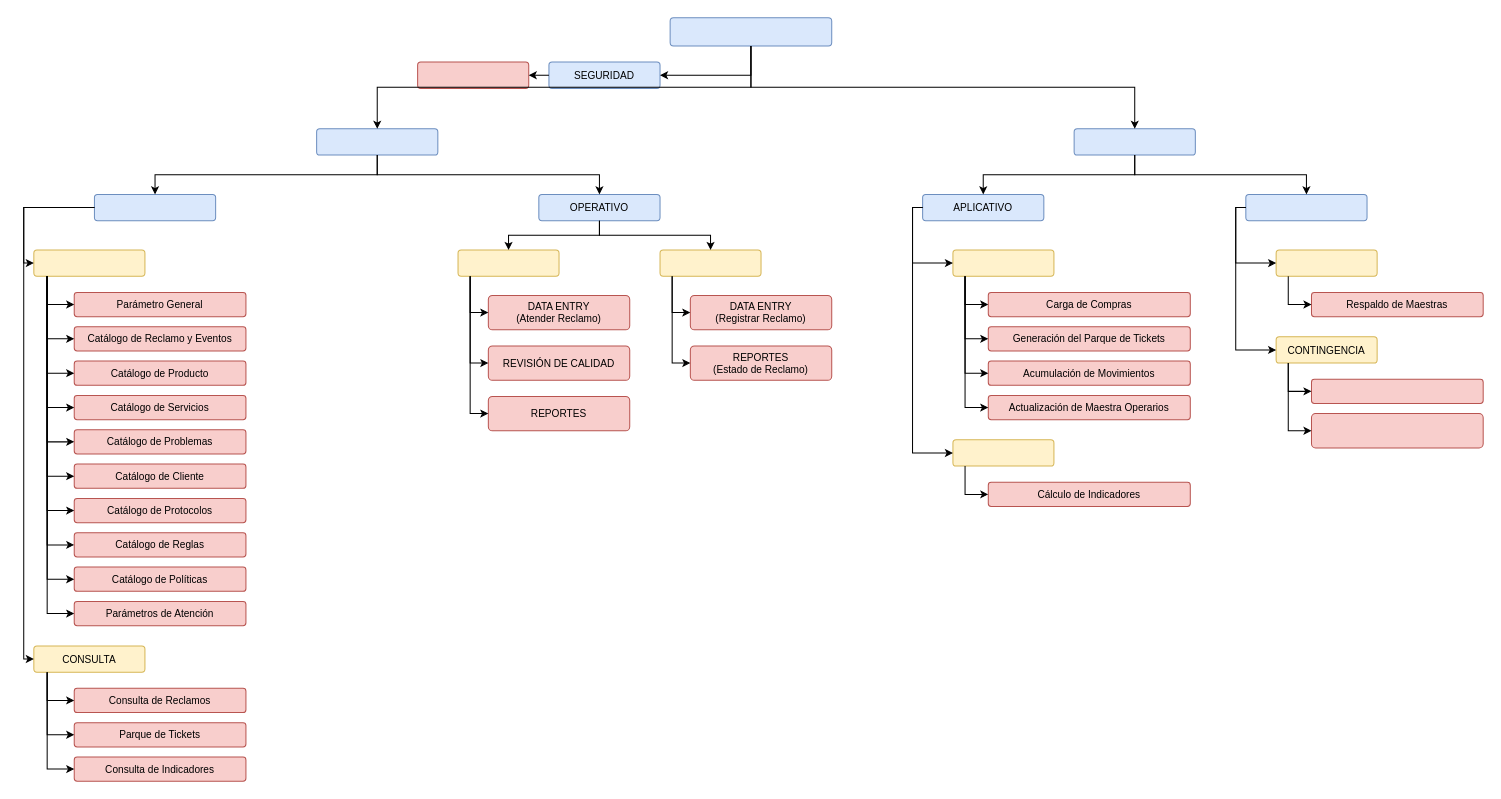
Some shapes in this 1501 by 799 pixel diagram are drawn without their labels. Here are the shapes that lost their labels. From the top down, the centre of each, then its label:
At point 750,31: "SISTEMA DE RECLAMOS".
At point 473,74: "Perfiles y Accesos".
At point 377,141: "ONLINE".
At point 1134,141: "BATCH".
At point 154,207: "GERENCIAL".
At point 1306,207: "TÉCNICO".
At point 89,262: "MANT-PARAM".
At point 508,262: "ÁREA".
At point 710,262: "CLIENTE".
At point 1003,262: "ACT-BD".
At point 1326,262: "MANT-BD".
At point 1396,390: "Checkpoint".
At point 1396,430: "Recuperación de Maestra Reclamos".
At point 1003,452: "ESTADÍSTICAS".
